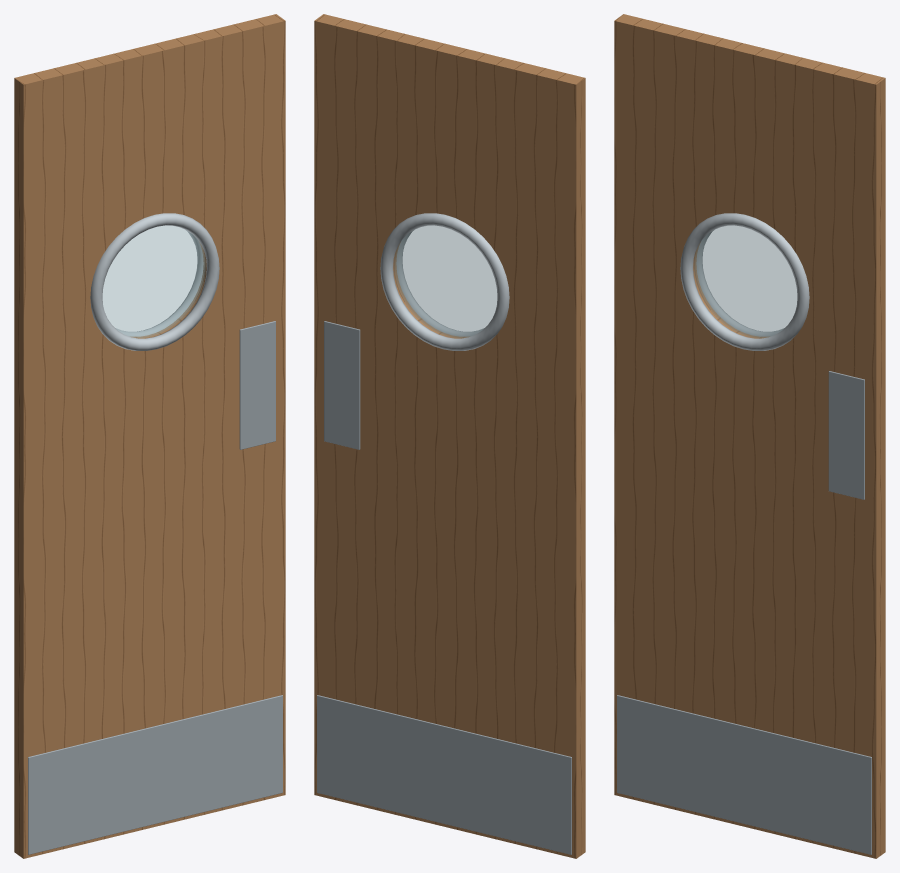
Rendered from SM_SwingDoor.glb.
3 renders of one model, left to right at view 1: azimuth 30°, elevation 25°; view 2: azimuth 150°, elevation 25°; view 3: azimuth 330°, elevation 25°, orthographic.
Parts seen in each view (by area): view 1: SM_SwingDoor; view 2: SM_SwingDoor; view 3: SM_SwingDoor.
Part boxes in pixels (<box>): SM_SwingDoor: <box>14,14,285,858</box>; SM_SwingDoor: <box>314,14,585,858</box>; SM_SwingDoor: <box>614,14,885,858</box>.
Bounding box in the file's own units: 0.73 × 2.06 × 0.077.
Materials: 4 (4 with a texture image).
